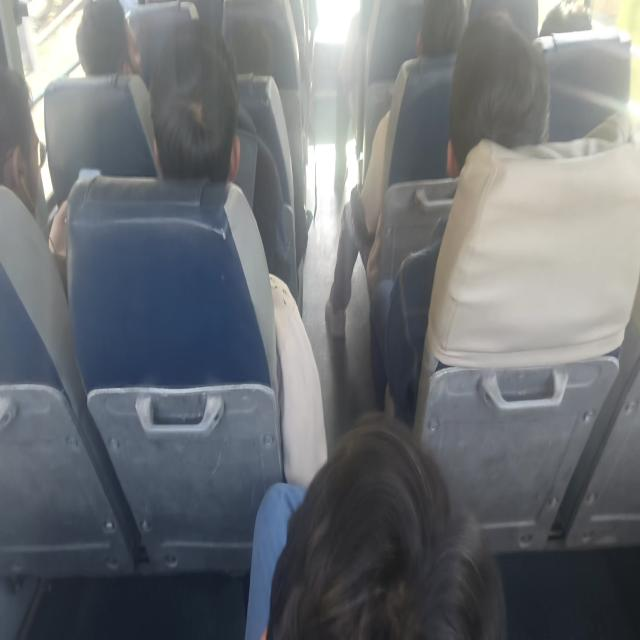person: (445, 20, 543, 188), (139, 48, 241, 180), (65, 9, 156, 96), (218, 0, 282, 83), (0, 106, 49, 208), (412, 0, 468, 65), (534, 0, 598, 52)
